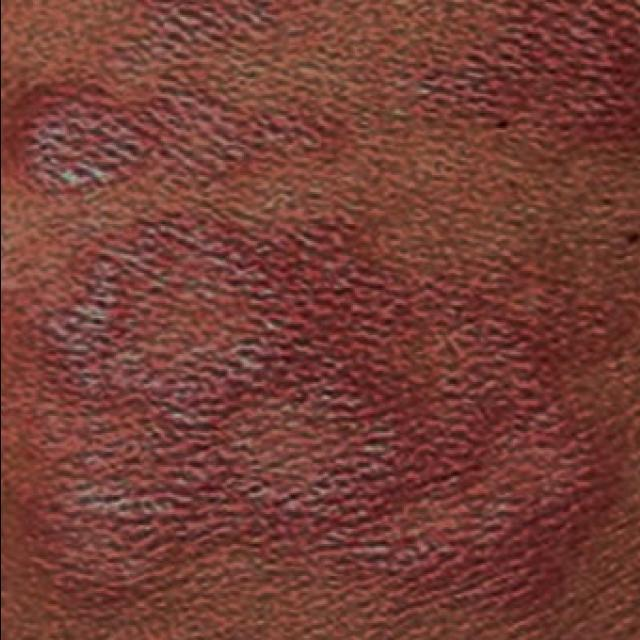Leprosy: (11, 207, 625, 640), (0, 0, 348, 202), (401, 0, 640, 188)
